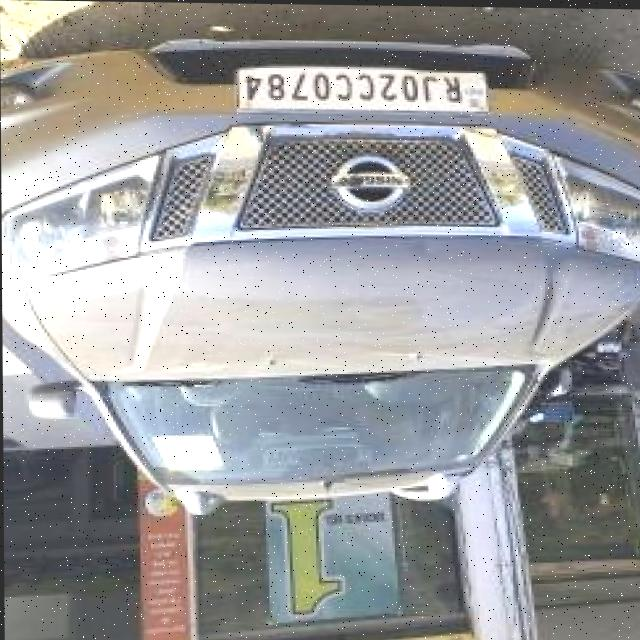plate: (237, 68, 488, 111)
